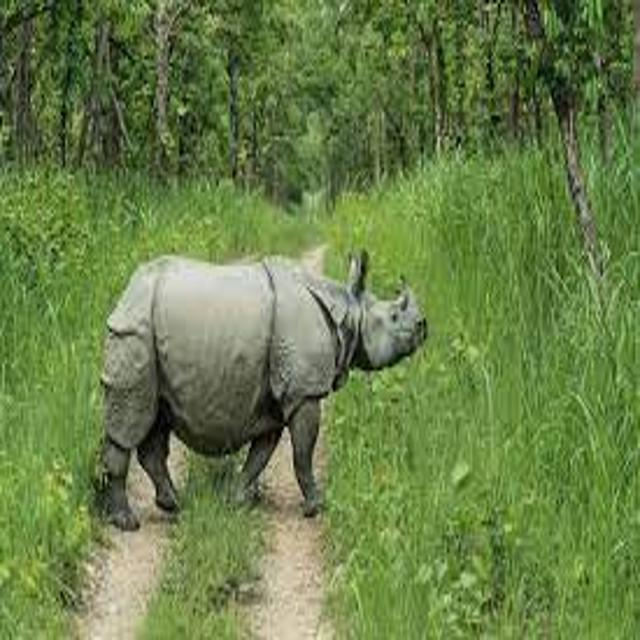Rinoceros: (39, 197, 476, 541)
